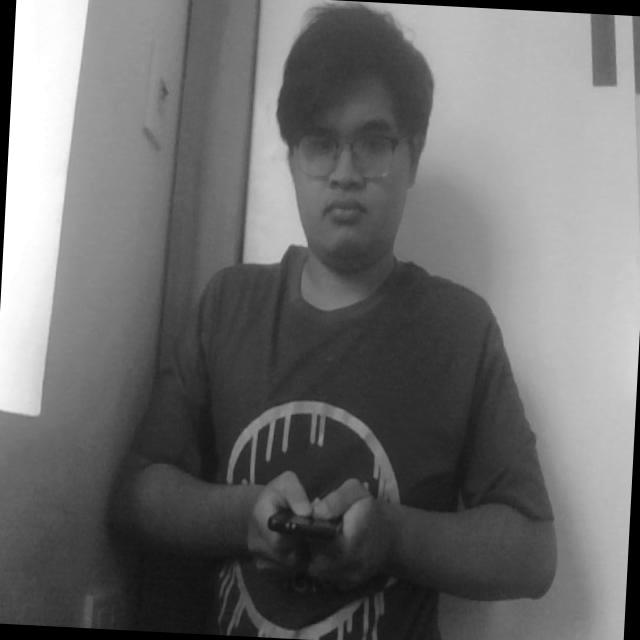phone: (260, 484, 356, 572)
